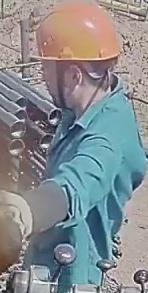gloves: (0, 190, 41, 265)
helmet: (29, 0, 121, 71)
vest: (22, 72, 148, 274)
